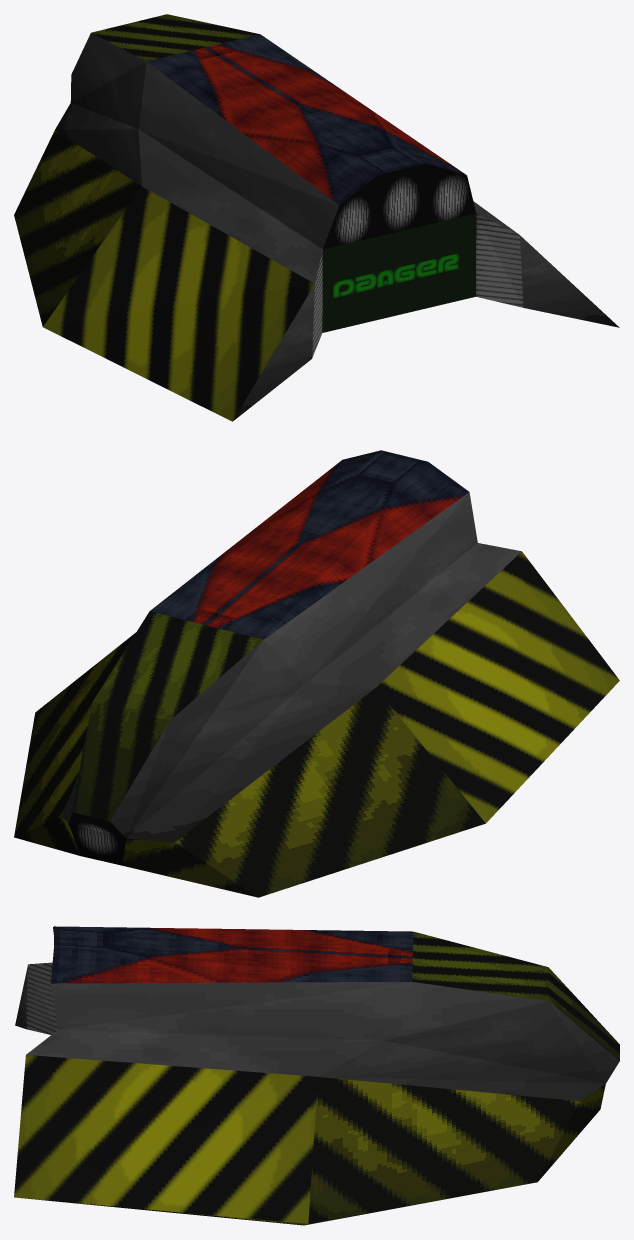
File: rescue_droid.glb
3 renders of one model, top to bottom at view 1: azimuth 30°, elevation 25°; view 2: azimuth 150°, elevation 25°; view 3: azimuth 270°, elevation 25°, orthographic. The views are drawn at different scales.
Visible parts, largest first — view 1: Mesh_0; view 2: Mesh_0; view 3: Mesh_0.
Boxes of the visible parts, x1,y1,x2,y2 form: Mesh_0: (14,14,619,421); Mesh_0: (14,450,619,897); Mesh_0: (14,926,619,1225).
Size of the model in its own units: 4.06 by 1.88 by 5.26.
Materials: 7 (7 with a texture image).
